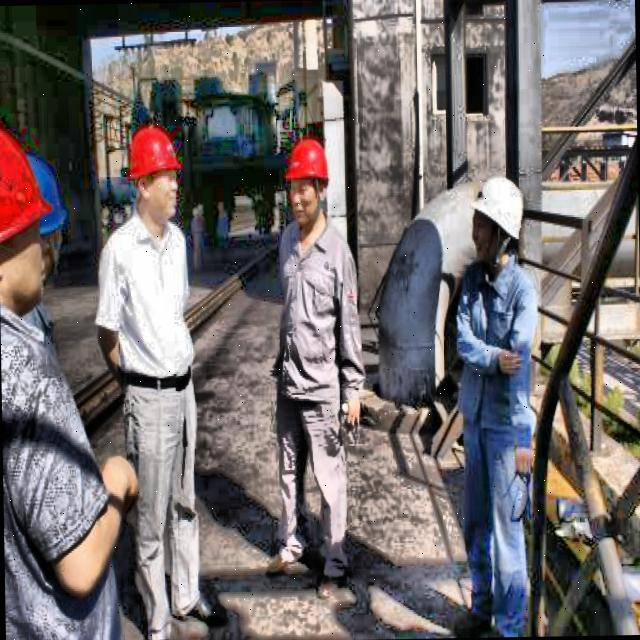helmet: (0, 120, 53, 319), (124, 116, 186, 230), (22, 145, 70, 286), (468, 170, 526, 276), (282, 128, 334, 231)
